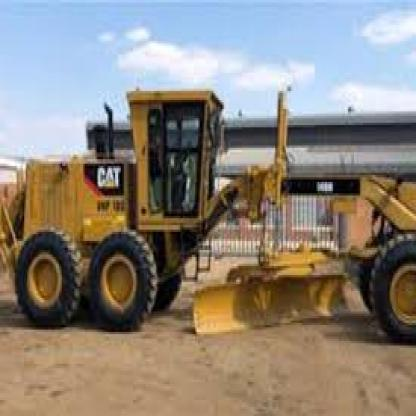bull_dozer/loader/grader: (7, 63, 414, 386)
